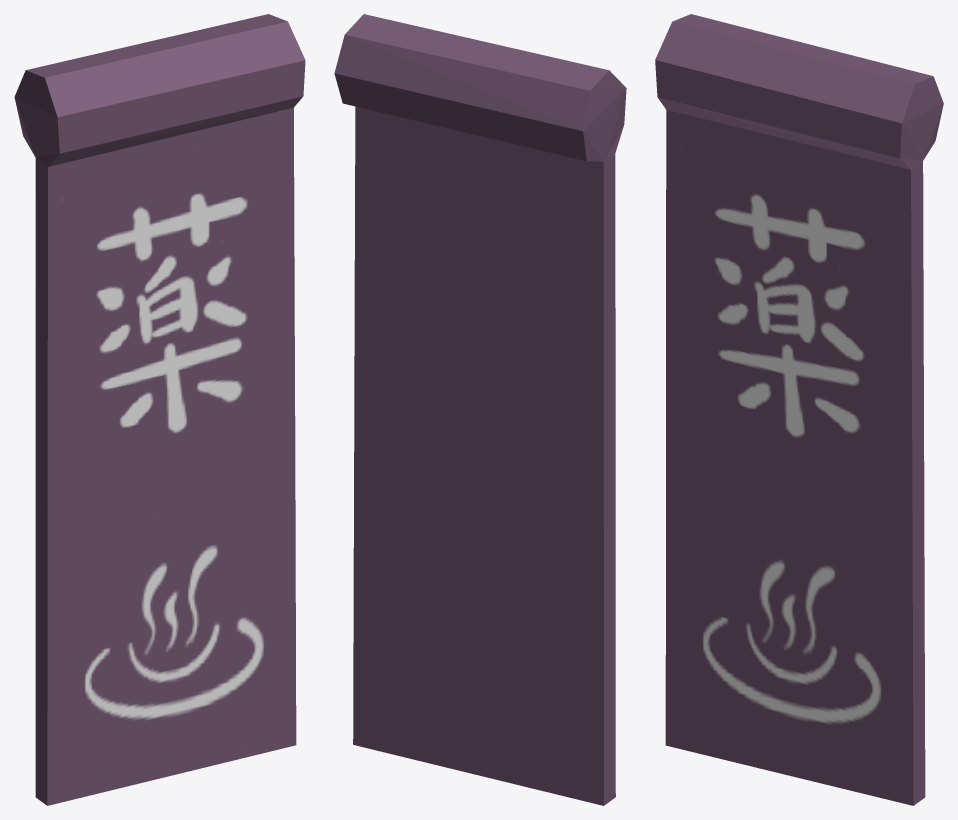
File: MarketStall_Flag_Medicine.gltf
The picture shows the model from 3 angles, left to right: view 1: azimuth 30°, elevation 25°; view 2: azimuth 150°, elevation 25°; view 3: azimuth 330°, elevation 25°; orthographic projection.
Visible parts, largest first — view 1: MarketStall_Flag_Medicine; view 2: MarketStall_Flag_Medicine; view 3: MarketStall_Flag_Medicine.
Boxes of the visible parts, box(x1,y1,x2,y2) form: MarketStall_Flag_Medicine: box(14, 14, 305, 805); MarketStall_Flag_Medicine: box(334, 14, 626, 805); MarketStall_Flag_Medicine: box(655, 14, 943, 805).
Bounding box in the file's own units: 0.3827 × 1.06 × 0.1149.
Materials: 1 (1 with a texture image).
